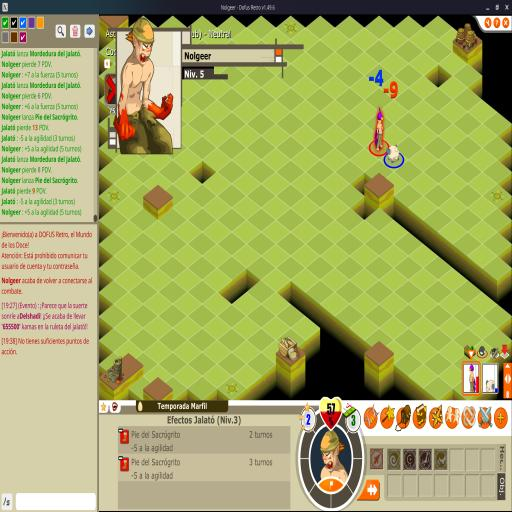Enemigos: (386, 144, 401, 163)
Personaje: (374, 108, 384, 150)
